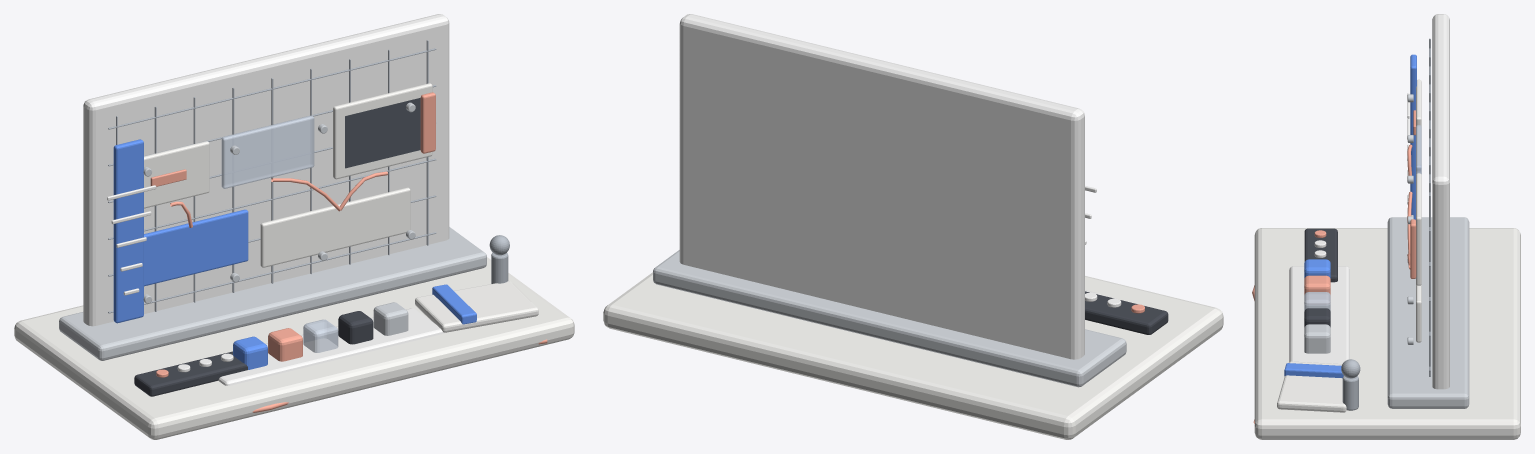
The model's file is structure.glb.
The picture shows the model from 3 angles, left to right: view 1: azimuth 30°, elevation 25°; view 2: azimuth 150°, elevation 25°; view 3: azimuth 270°, elevation 25°; orthographic projection. The views are drawn at different scales.
Visible parts, largest first — view 1: STR_grid_board, STR_console, STR_board_base, STR_panel_4, STR_panel_3, STR_type_ruler, STR_panel_1, SCREEN_structure_system, STR_token_dock, STR_booklet, STR_panel_0, STR_panel_2 (+11 smaller); view 2: STR_grid_board, STR_console, STR_board_base, STR_control_strip; view 3: STR_console, STR_board_base, STR_grid_board, STR_token_dock, STR_booklet, STR_control_strip, STR_type_ruler, STR_token_4, STR_booklet_band, STR_panel_2, STR_operator_body, STR_token_1 (+9 smaller).
Part boxes in pixels (x1,y1,x2,y2): STR_grid_board: (83, 14, 449, 326); STR_console: (14, 257, 574, 439); STR_board_base: (59, 227, 486, 360); STR_panel_4: (260, 187, 410, 267); STR_panel_3: (144, 209, 248, 286); STR_type_ruler: (113, 139, 143, 323); STR_panel_1: (221, 115, 314, 188); SCREEN_structure_system: (345, 98, 420, 168); STR_token_dock: (218, 308, 443, 385); STR_booklet: (415, 281, 538, 332); STR_panel_0: (144, 141, 209, 208); STR_panel_2: (333, 83, 432, 179); STR_grid_board: (679, 14, 1084, 359); STR_console: (603, 272, 1223, 439); STR_board_base: (653, 250, 1126, 387); STR_control_strip: (1085, 291, 1168, 334); STR_console: (1254, 228, 1520, 439); STR_board_base: (1387, 217, 1469, 408); STR_grid_board: (1432, 14, 1449, 389); STR_token_dock: (1289, 266, 1349, 363); STR_booklet: (1277, 361, 1346, 412); STR_control_strip: (1304, 228, 1337, 282); STR_type_ruler: (1410, 54, 1416, 219); STR_token_4: (1304, 324, 1330, 353); STR_booklet_band: (1284, 363, 1343, 378); STR_panel_2: (1416, 173, 1421, 285); STR_operator_body: (1342, 376, 1358, 410); STR_token_1: (1304, 275, 1330, 295).
Size of the model in its own units: 6.3 by 3.71 by 3.64.
